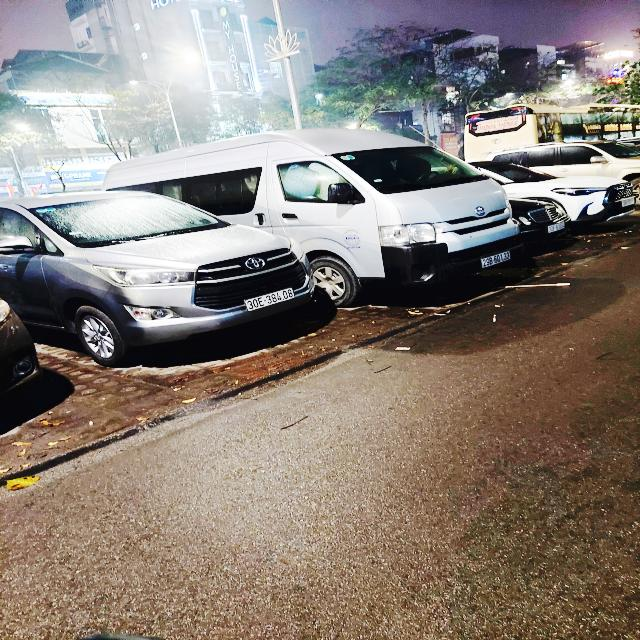license_plate: (242, 287, 298, 315), (479, 250, 513, 271)
